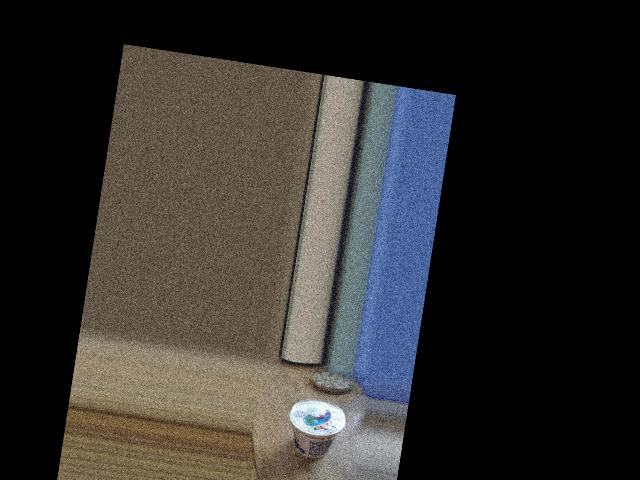cotage: (280, 393, 339, 470)
